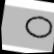no answer: (22, 13, 54, 42)
